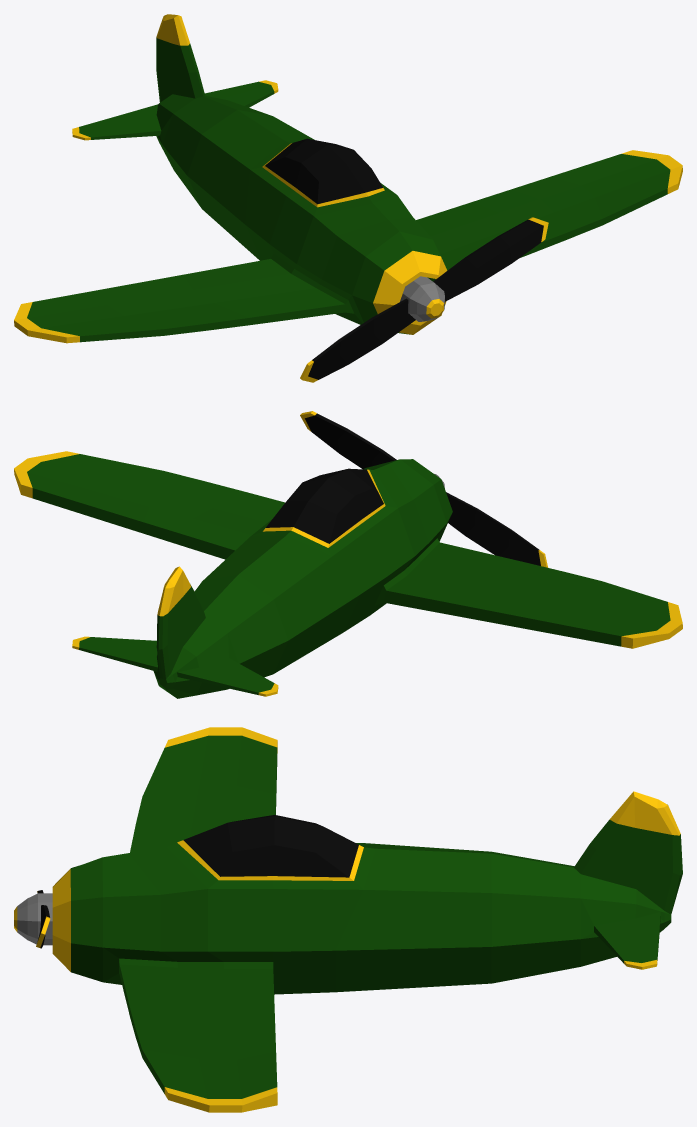
The picture shows the model from 3 angles, top to bottom: view 1: azimuth 30°, elevation 25°; view 2: azimuth 150°, elevation 25°; view 3: azimuth 270°, elevation 25°; orthographic projection. The views are drawn at different scales.
Visible parts, largest first — view 1: Fuselagem, Helice; view 2: Fuselagem, Helice; view 3: Fuselagem, Helice.
Part boxes in pixels (bbox=[...]): Fuselagem: bbox=[14, 14, 682, 343]; Helice: bbox=[300, 217, 548, 382]; Fuselagem: bbox=[14, 451, 682, 698]; Helice: bbox=[300, 411, 548, 567]; Fuselagem: bbox=[52, 727, 682, 1112]; Helice: bbox=[14, 890, 52, 948].
Size of the model in its own units: 1292 by 314 by 951.
